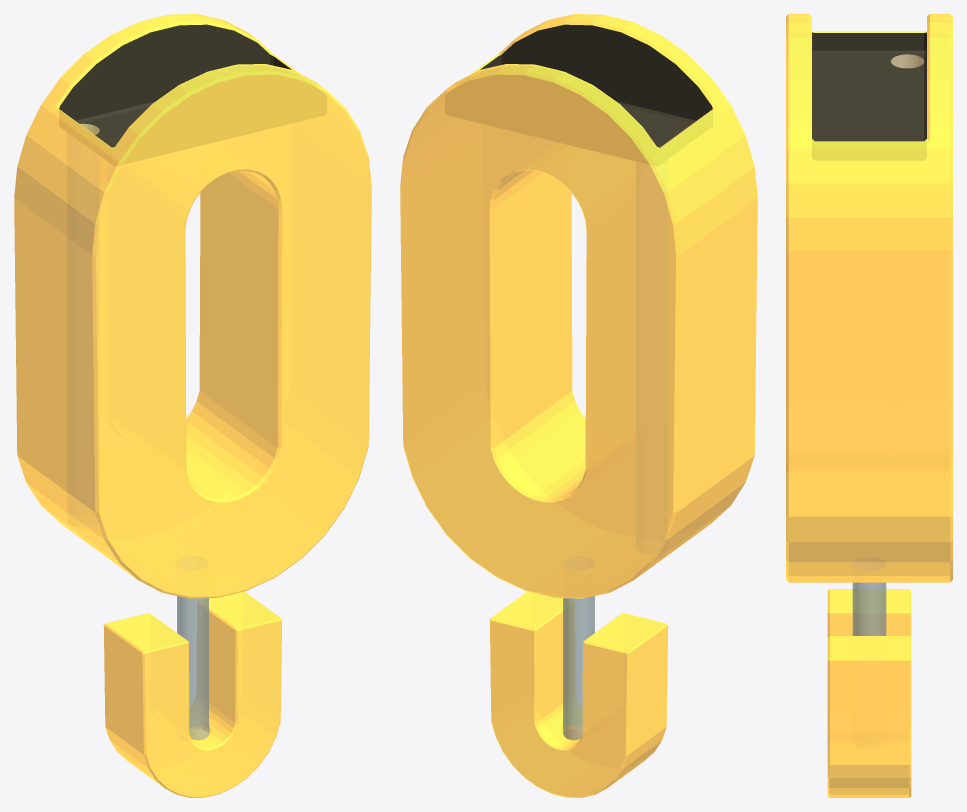
The model's file is obita_base_Vb_0.5.glb.
3 renders of one model, left to right at view 1: azimuth 30°, elevation 25°; view 2: azimuth 150°, elevation 25°; view 3: azimuth 270°, elevation 25°, orthographic. The views are drawn at different scales.
Parts seen in each view (by area): view 1: O, u, club, lift; view 2: O, u, club, lift; view 3: O, u, club, lift, lift2.
Boxes of the visible parts, x1,y1,x2,y2 form: O: (14,14,371,598); u: (103,591,282,797); club: (59,24,291,147); lift: (177,596,208,740); O: (400,14,757,598); u: (489,591,668,797); club: (480,24,712,147); lift: (563,596,594,740); O: (786,14,952,582); u: (827,589,911,797); club: (812,32,926,141); lift: (852,582,886,635); lift2: (891,54,923,68).
Size of what is drawn, in the model's own units: 33.63 by 84.45 by 16.81.
